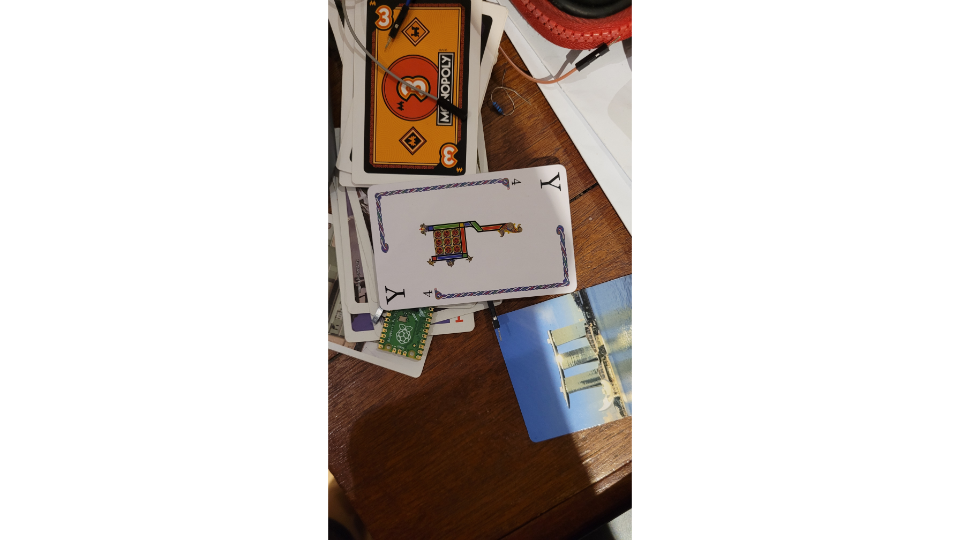Y: (366, 163, 581, 312)
